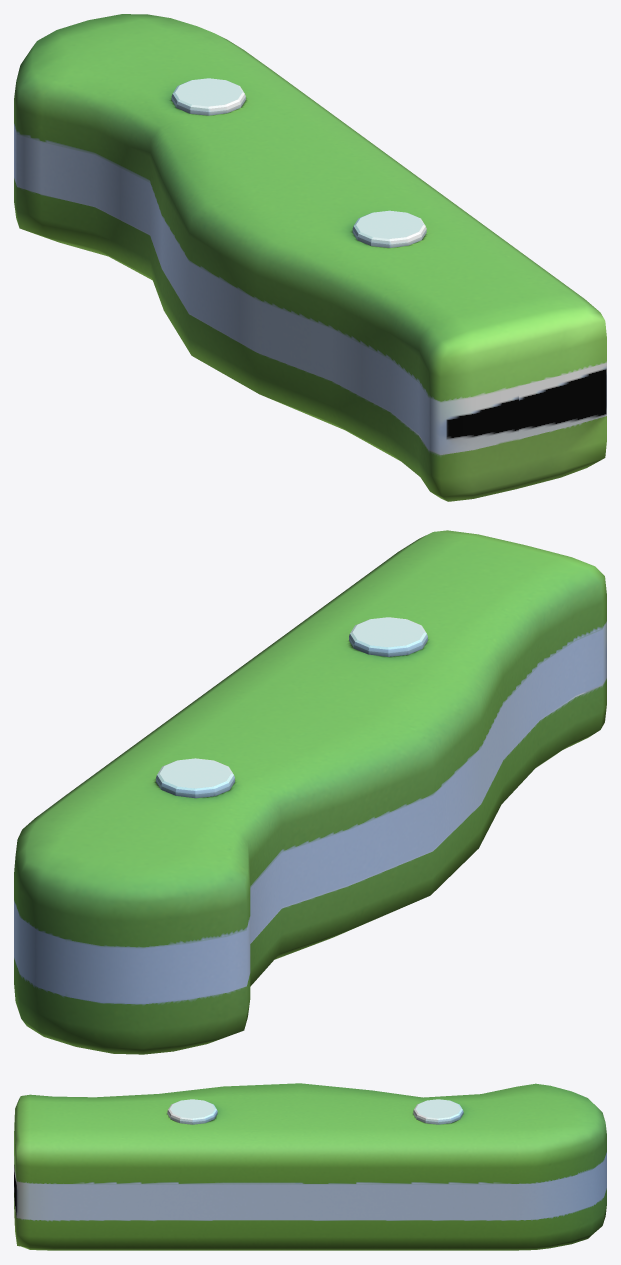
Rendered from Green Knife.fbx.
3 renders of one model, top to bottom at view 1: azimuth 30°, elevation 25°; view 2: azimuth 150°, elevation 25°; view 3: azimuth 270°, elevation 25°, orthographic. The views are drawn at different scales.
Visible parts, largest first — view 1: Knife.003; view 2: Knife.003; view 3: Knife.003.
Boxes of the visible parts, box(x1,y1,x2,y2) form: Knife.003: box(14, 14, 606, 501); Knife.003: box(14, 530, 606, 1054); Knife.003: box(14, 1083, 606, 1250).
Bounding box in the file's own units: 0.053 × 0.0429 × 0.185.
